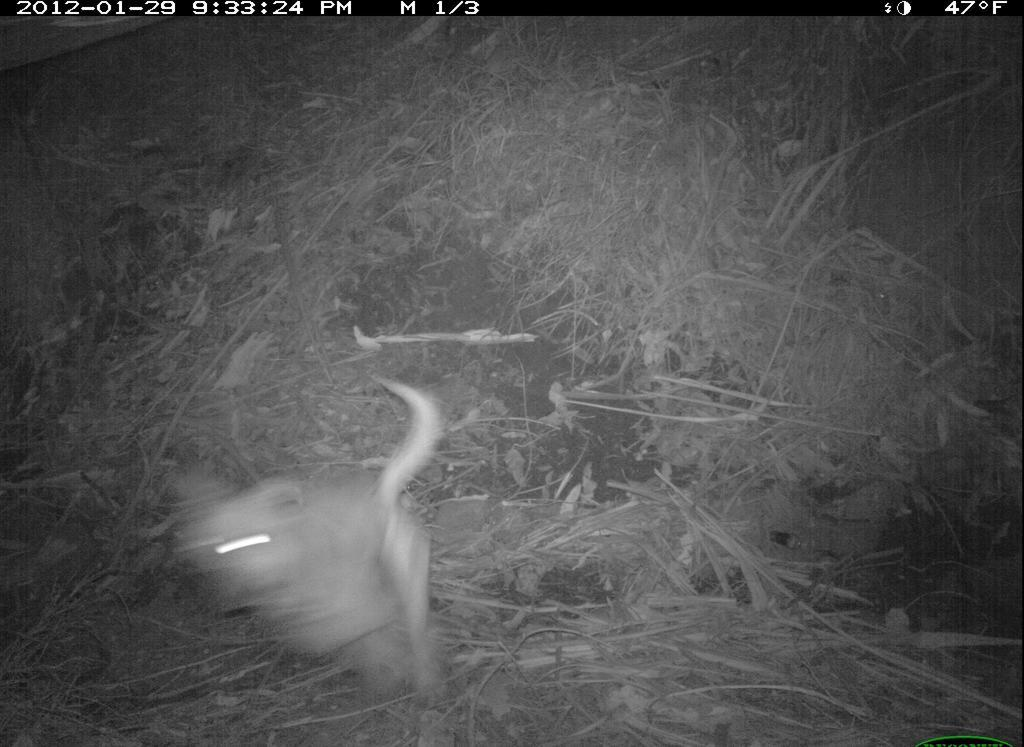dog: (168, 367, 455, 712)
